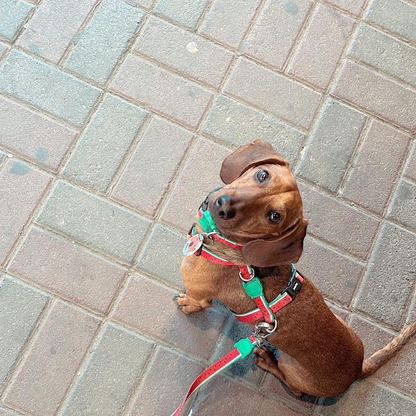dachshund: (171, 128, 374, 407)
